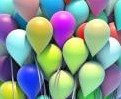Balloon: (26, 17, 53, 52), (16, 64, 43, 99), (5, 29, 31, 65), (84, 19, 110, 52), (62, 38, 88, 69), (79, 61, 105, 91), (51, 11, 75, 43), (48, 71, 75, 99), (14, 1, 39, 18)
